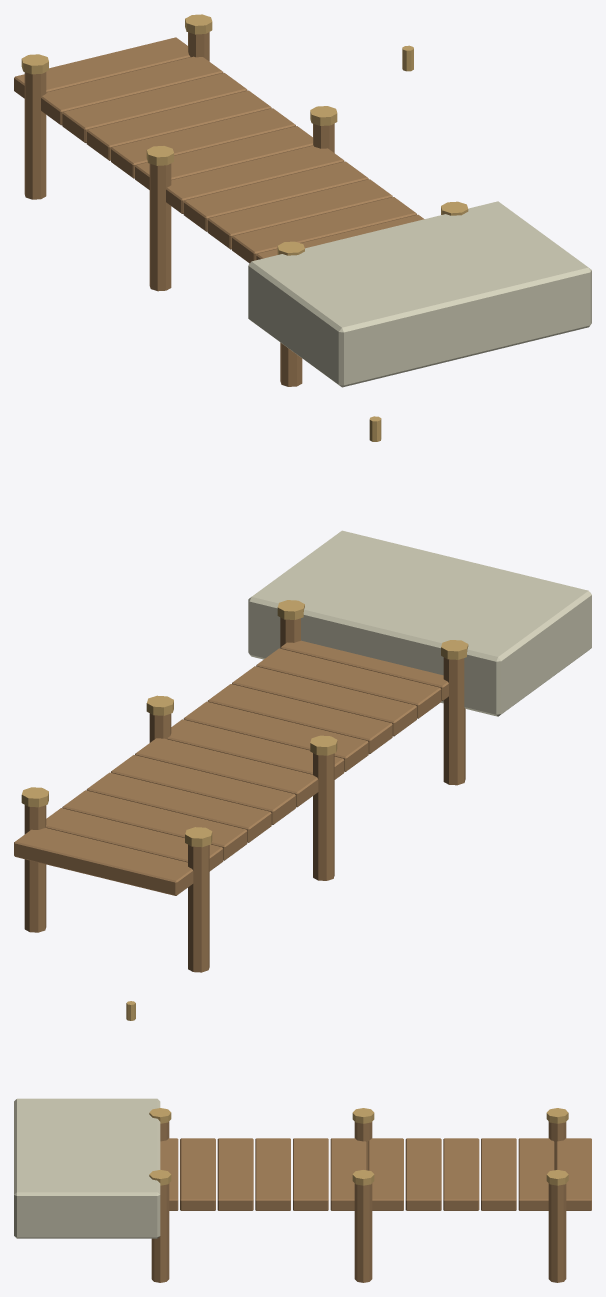
Rendered from level_03.glb.
3 views of the same model, one above another, from view 1: azimuth 30°, elevation 25°; view 2: azimuth 150°, elevation 25°; view 3: azimuth 270°, elevation 25° (orthographic). The views are drawn at different scales.
Visible parts, largest first — view 1: dock — level 03; view 2: dock — level 03; view 3: dock — level 03.
Boxes of the visible parts, x1,y1,x2,y2 form: dock — level 03: [14, 14, 591, 387]; dock — level 03: [14, 416, 591, 972]; dock — level 03: [14, 1001, 591, 1282].
Size of the model in its own units: 3.1 by 3.79 by 7.9.
